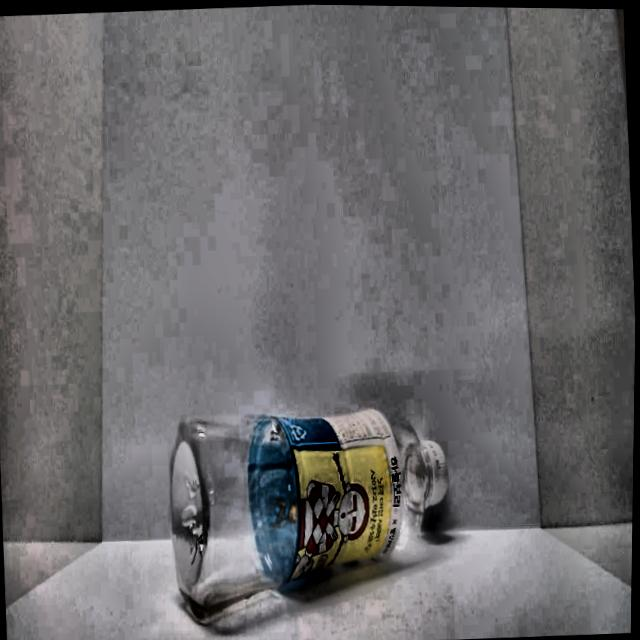Bottles: (149, 383, 466, 622)
